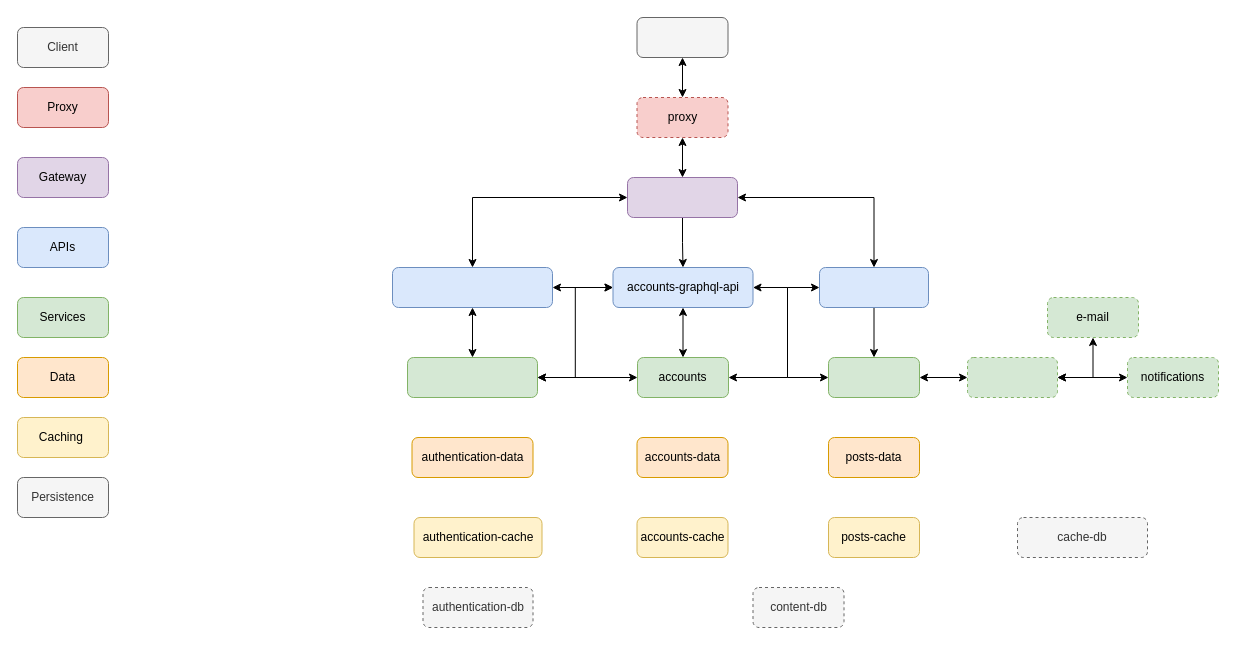
Image size: 1236x645. Some labels were removed from this diagram. Each missing label, with the box of its shape:
authentication: (406, 356, 538, 398)
authentication-graphql-api: (392, 266, 552, 308)
graphql-gateway: (626, 176, 738, 218)
posts: (828, 356, 920, 398)
posts-graphql-api: (818, 266, 928, 308)
pub-sub: (966, 356, 1058, 398)
web-client: (636, 16, 728, 58)
